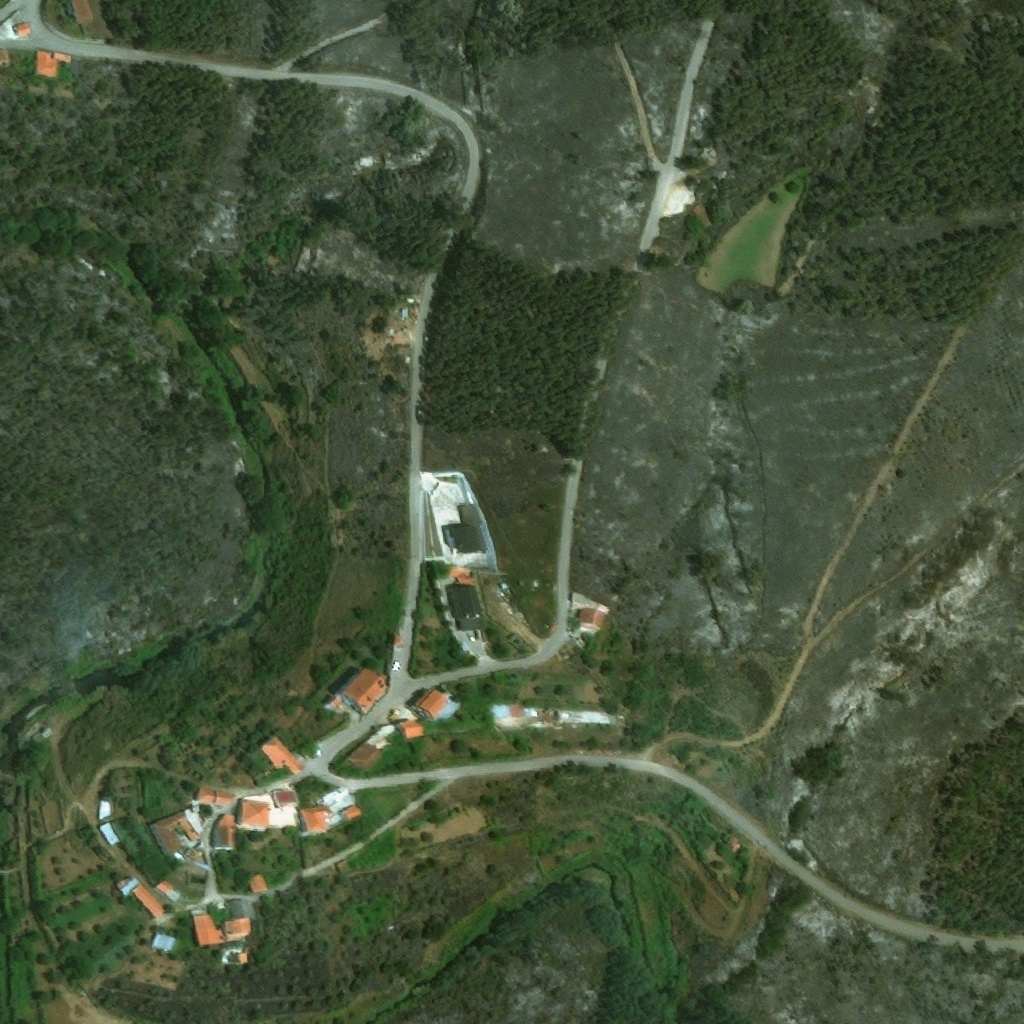0 no-damage: (323, 666, 391, 716), (190, 899, 254, 947), (148, 809, 200, 858), (116, 874, 168, 919), (446, 567, 483, 629), (443, 504, 484, 556), (259, 735, 306, 775), (572, 590, 613, 629), (412, 689, 455, 721), (300, 804, 344, 834), (348, 741, 387, 772), (37, 49, 74, 77), (238, 798, 270, 829), (213, 813, 237, 850), (197, 787, 235, 806), (559, 709, 612, 722), (152, 930, 179, 955), (494, 702, 533, 717), (398, 718, 426, 738), (99, 822, 121, 845), (74, 0, 95, 24), (273, 789, 296, 806), (250, 873, 269, 893), (342, 804, 363, 820), (157, 879, 176, 895), (97, 800, 111, 821), (14, 22, 32, 34), (0, 49, 12, 63), (392, 635, 403, 646), (500, 580, 511, 590), (192, 805, 202, 812), (402, 309, 409, 318)
